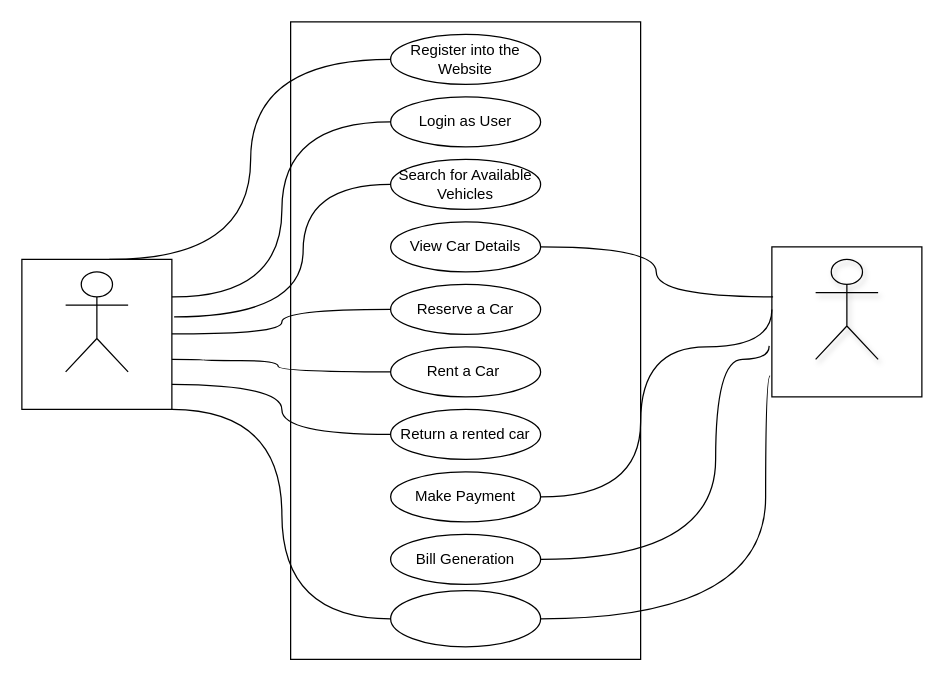
Some shapes in this 944 by 681 pixel diagram are drawn without their labels. The shapes that lost their labels are listed below. From the top down, each one's centre as x and y in pixels, then its label:
point (96, 321): Customer
point (847, 310): Admin
point (465, 618): Log Out
